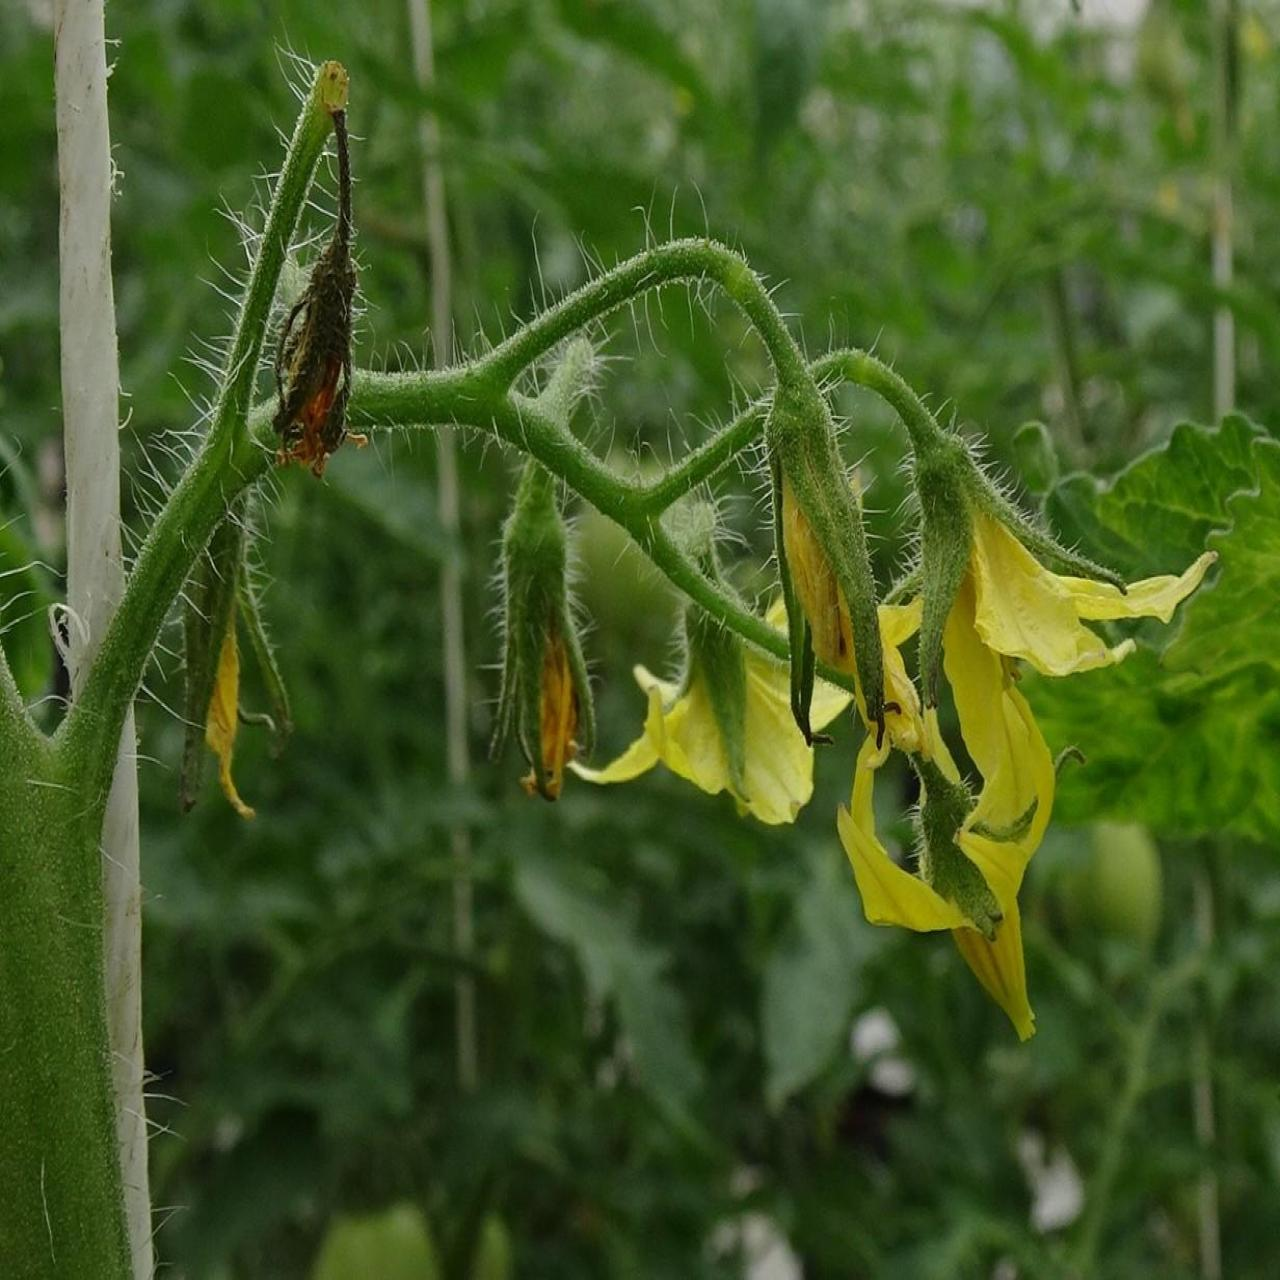T_Fl_R: (840, 508, 1219, 1042), (781, 479, 871, 745)
T_S_R: (54, 64, 349, 838), (649, 241, 886, 734), (1, 653, 131, 1278), (493, 392, 789, 659), (350, 252, 669, 430)
